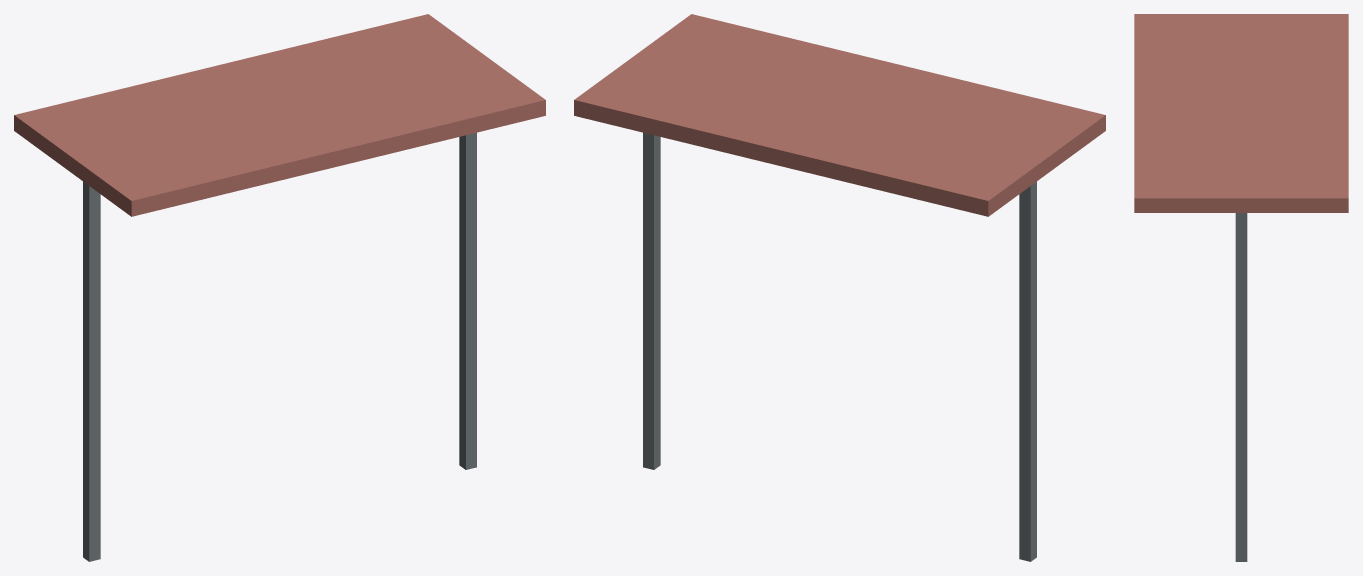
The model's file is iz2_canopy_apartment.glb.
3 renders of one model, left to right at view 1: azimuth 30°, elevation 25°; view 2: azimuth 150°, elevation 25°; view 3: azimuth 270°, elevation 25°, orthographic. The views are drawn at different scales.
Parts seen in each view (by area): view 1: body; view 2: body; view 3: body.
Part boxes in pixels (x1,y1,x2,y2): body: (14, 14, 545, 561); body: (574, 14, 1105, 561); body: (1134, 14, 1348, 561).
Bounding box in the file's own units: 2.18 × 2.04 × 1.07.
